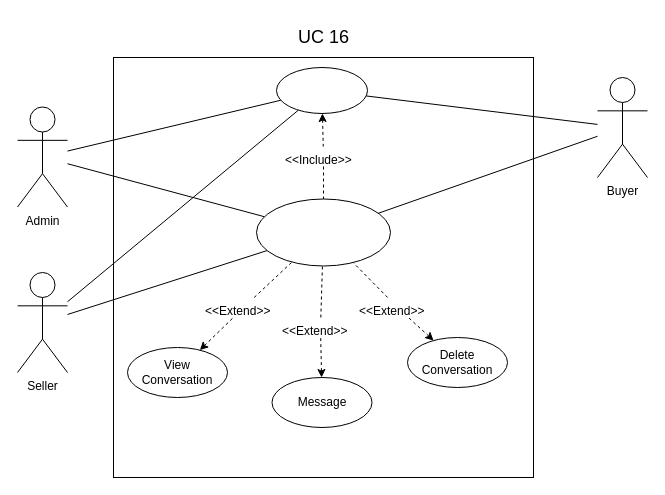
Some shapes in this 665 by 495 pixel diagram are drawn without their labels. The shapes that lost their labels are listed below. From the top down, each one's centre as x and y in pixels, then its label:
At point (322, 90): "Login".
At point (323, 232): "Management Conversation".
